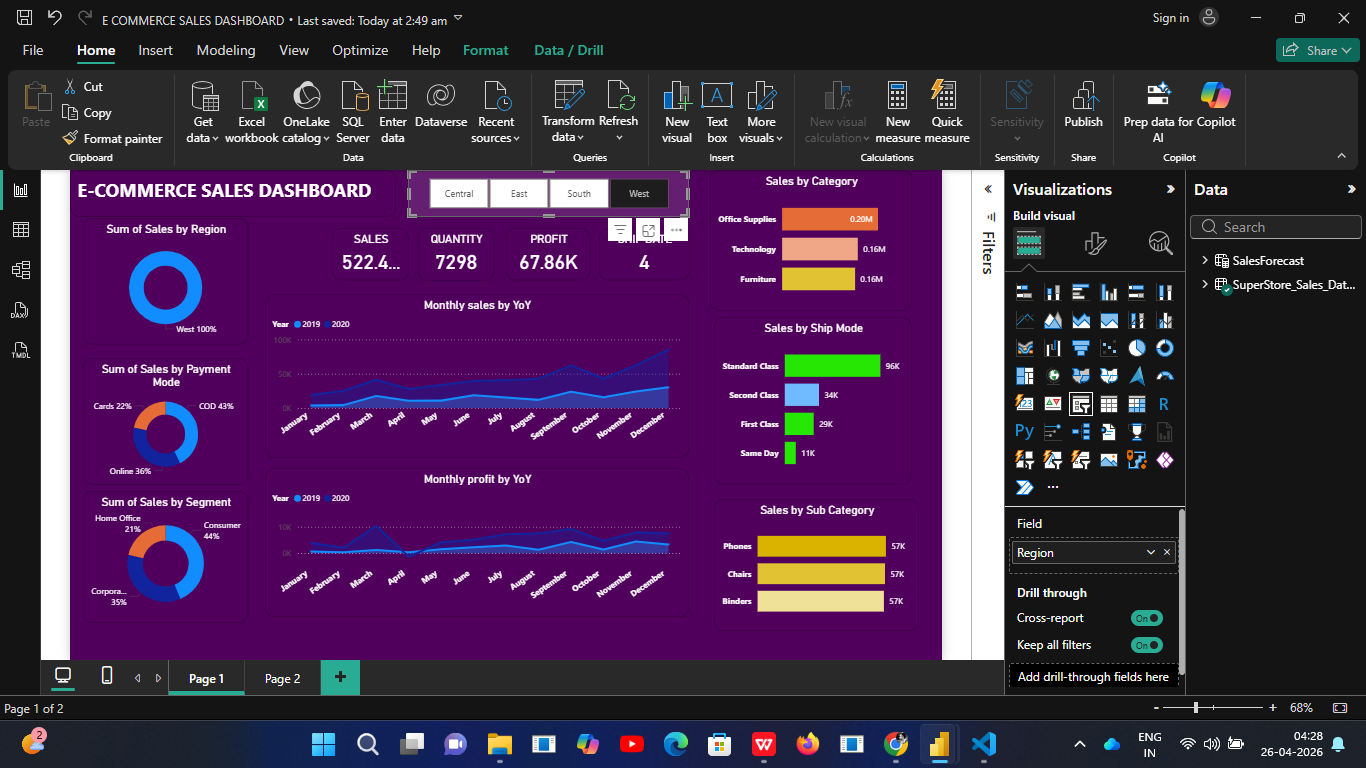

Layout of this report page (visuals, bound fields, positions):
{"tool":"powerbi","page":{"name":"Page 1","canvas":[1280,720],"ordinal":0},"visuals":[{"type":"clusteredBarChart","title":" Sales by Category","fields":{"Category":["SuperStore_Sales_Dataset (2).Category"],"Y":["Sum(SuperStore_Sales_Dataset (2).Sales)"]},"box":[940,0,297.1,207.1],"z":0},{"type":"clusteredBarChart","title":" Sales by Sub Category","fields":{"Category":["SuperStore_Sales_Dataset (2).Sub-Category"],"Y":["Sum(SuperStore_Sales_Dataset (2).Sales)"]},"box":[945.7,482.9,301.4,194.3],"z":1000},{"type":"clusteredBarChart","title":" Sales by Ship Mode","fields":{"Category":["SuperStore_Sales_Dataset (2).Ship Mode"],"Y":["Sum(SuperStore_Sales_Dataset (2).Sales)"]},"box":[945.7,215.7,291.4,245.7],"z":2000},{"type":"stackedAreaChart","title":" Monthly sales by YoY","fields":{"Y":["Sum(SuperStore_Sales_Dataset (2).Sales)"],"Category":["SuperStore_Sales_Dataset (2).Order Date.Variation.Date Hierarchy.Month","SuperStore_Sales_Dataset (2).Order Date.Variation.Date Hierarchy.Day"],"Series":["SuperStore_Sales_Dataset (2).Order Date.Variation.Date Hierarchy.Year"]},"box":[287.1,182.9,622.9,241.4],"z":3000},{"type":"stackedAreaChart","title":" Monthly profit by YoY","fields":{"Category":["SuperStore_Sales_Dataset (2).Order Date.Variation.Date Hierarchy.Month","SuperStore_Sales_Dataset (2).Order Date.Variation.Date Hierarchy.Day"],"Series":["SuperStore_Sales_Dataset (2).Order Date.Variation.Date Hierarchy.Year"],"Y":["Sum(SuperStore_Sales_Dataset (2).Profit)"]},"box":[287.1,437.1,622.9,218.6],"z":4000},{"type":"donutChart","fields":{"Category":["SuperStore_Sales_Dataset (2).Segment"],"Y":["Sum(SuperStore_Sales_Dataset (2).Sales)"]},"box":[18.6,471.4,242.9,194.3],"z":5000},{"type":"donutChart","fields":{"Category":["SuperStore_Sales_Dataset (2).Payment Mode"],"Y":["Sum(SuperStore_Sales_Dataset (2).Sales)"]},"box":[18.6,275.7,242.9,185.7],"z":6000},{"type":"slicer","fields":{"Values":["SuperStore_Sales_Dataset (2).Region"]},"box":[497.1,0,412.9,68.6],"z":7000},{"type":"textbox","box":[0,0,478.6,68.6],"z":8000},{"type":"card","title":"SALES","fields":{"Values":["Sum(SuperStore_Sales_Dataset (2).Sales)"]},"box":[384.3,85.7,112.9,77.1],"z":8001},{"type":"card","title":"QUANTITY","fields":{"Values":["Sum(SuperStore_Sales_Dataset (2).Quantity)"]},"box":[511.4,85.7,111.4,77.1],"z":8002},{"type":"card","title":"PROFIT","fields":{"Values":["Sum(SuperStore_Sales_Dataset (2).Profit)"]},"box":[640,85.7,124.3,77.1],"z":8003},{"type":"card","title":"SHIP DATE","fields":{"Values":["Avg(SuperStore_Sales_Dataset (2).AvgDelivery)"]},"box":[777.1,85.7,132.9,77.1],"z":8004},{"type":"donutChart","fields":{"Category":["SuperStore_Sales_Dataset (2).Region"],"Y":["Sum(SuperStore_Sales_Dataset (2).Sales)"]},"box":[18.6,70,242.9,185.7],"z":8005}]}

Visuals, with their boxes on the page's 1280x720 design canvas (x1, y1, x2, y2). These are canvas units, not pixel positions in the 1366x768 screenshot, which may show the page scaled, cropped or inside an application window:
" Sales by Category" clusteredBarChart: 940 0 1237 207
" Sales by Sub Category" clusteredBarChart: 946 483 1247 677
" Sales by Ship Mode" clusteredBarChart: 946 216 1237 461
" Monthly sales by YoY" stackedAreaChart: 287 183 910 424
" Monthly profit by YoY" stackedAreaChart: 287 437 910 656
donutChart - SuperStore_Sales_Dataset (2).Segment x Sum(SuperStore_Sales_Dataset (2).Sales): 19 471 262 666
donutChart - SuperStore_Sales_Dataset (2).Payment Mode x Sum(SuperStore_Sales_Dataset (2).Sales): 19 276 262 461
slicer - SuperStore_Sales_Dataset (2).Region: 497 0 910 69
textbox: 0 0 479 69
"SALES" card: 384 86 497 163
"QUANTITY" card: 511 86 623 163
"PROFIT" card: 640 86 764 163
"SHIP DATE" card: 777 86 910 163
donutChart - SuperStore_Sales_Dataset (2).Region x Sum(SuperStore_Sales_Dataset (2).Sales): 19 70 262 256
